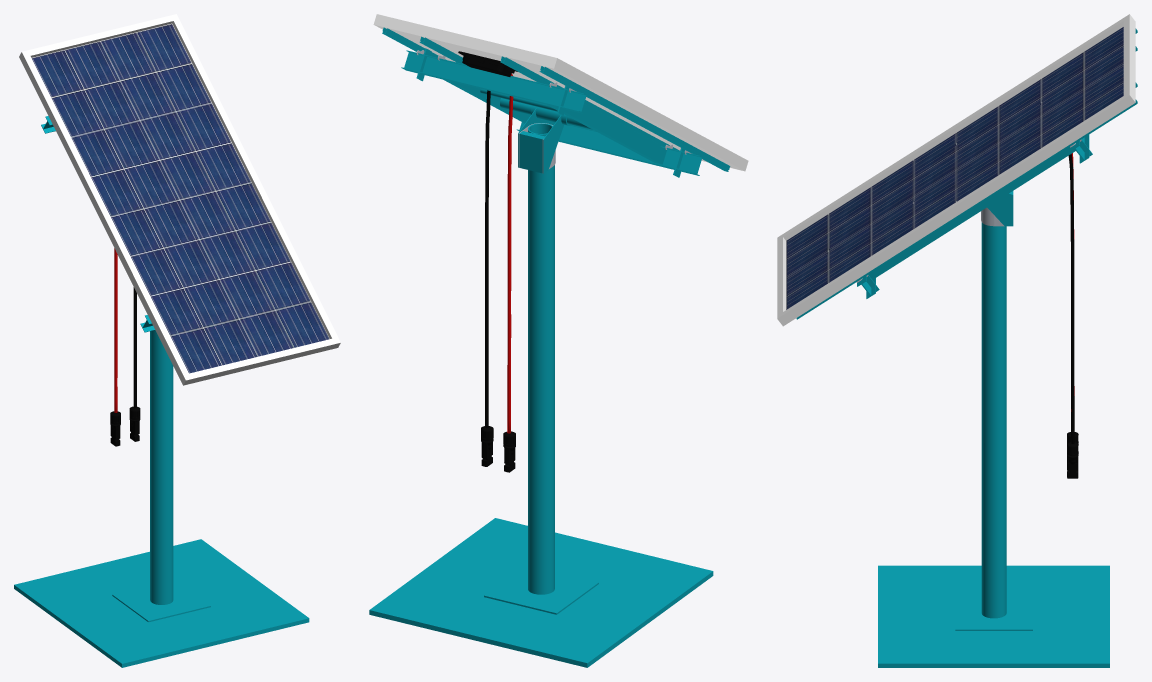
The model's file is Solar_Panel_150w.fbx.
3 views of the same model, side by side, from view 1: azimuth 30°, elevation 25°; view 2: azimuth 150°, elevation 25°; view 3: azimuth 270°, elevation 25° (orthographic). The views are drawn at different scales.
Parts seen in each view (by area): view 1: b, Solar_Panel_150w, polySurface2411; view 2: Solar_Panel_150w, AR_Solar_Models:Structure, b, AR_Solar_Models:Rail, polySurface2411, polySurface2416, JB_1; view 3: b, Solar_Panel_150w, AR_Solar_Models:Structure, polySurface2416, AR_Solar_Models:Rail.
Boxes of the visible parts, <box> form: b: <box>19,14,340,385</box>; Solar_Panel_150w: <box>14,330,309,667</box>; polySurface2411: <box>114,248,117,412</box>; Solar_Panel_150w: <box>369,123,713,667</box>; AR_Solar_Models:Structure: <box>401,48,704,177</box>; b: <box>373,14,748,171</box>; AR_Solar_Models:Rail: <box>382,27,730,171</box>; polySurface2411: <box>507,73,513,433</box>; polySurface2416: <box>485,90,490,427</box>; JB_1: <box>458,51,517,76</box>; b: <box>777,14,1135,326</box>; Solar_Panel_150w: <box>878,222,1109,667</box>; AR_Solar_Models:Structure: <box>857,134,1092,298</box>; polySurface2416: <box>1068,154,1074,443</box>; AR_Solar_Models:Rail: <box>796,28,1137,319</box>.
Bounding box in the file's own units: 1867 × 5015 × 2903.
